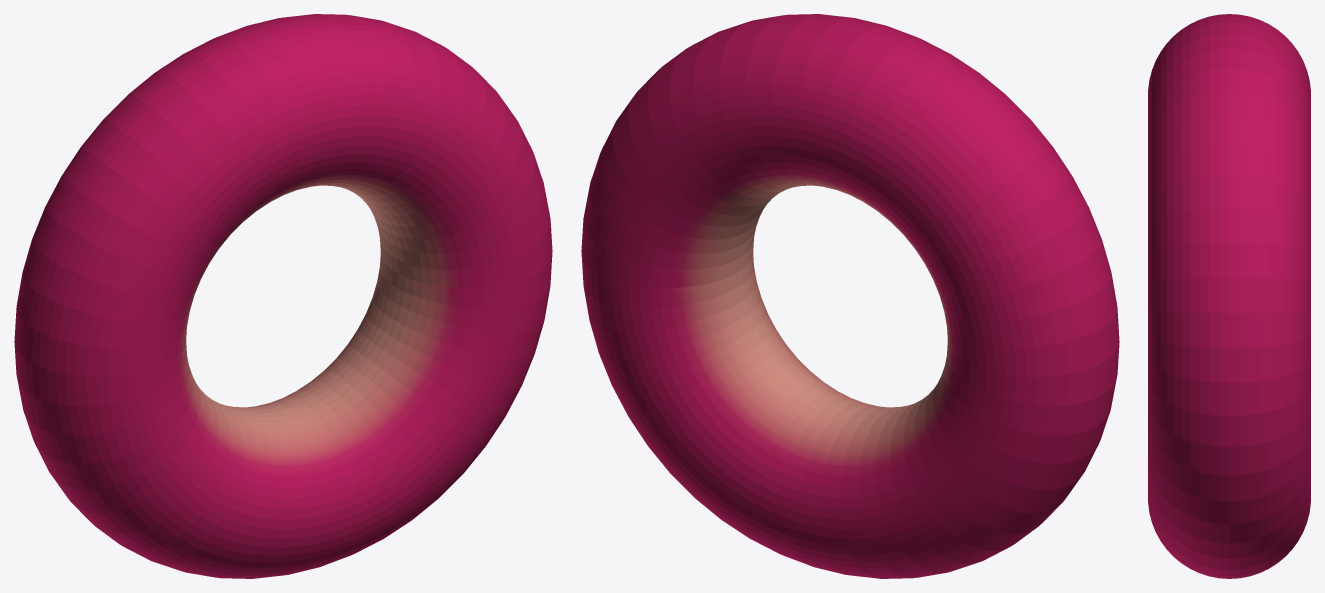
The picture shows the model from 3 angles, left to right: view 1: azimuth 30°, elevation 25°; view 2: azimuth 150°, elevation 25°; view 3: azimuth 270°, elevation 25°; orthographic projection. The views are drawn at different scales.
Parts seen in each view (by area): view 1: world; view 2: world; view 3: world.
Boxes of the visible parts, <box> form: world: <box>14,14,552,578</box>; world: <box>581,14,1119,578</box>; world: <box>1148,14,1310,578</box>.
Size of the model in its own units: 30.93 by 30.87 by 8.92.
